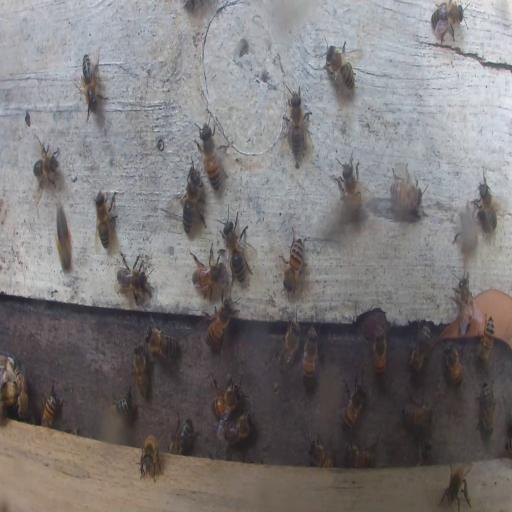bee: (220, 206, 254, 280), (115, 256, 155, 306), (284, 84, 309, 162), (180, 166, 207, 236), (323, 40, 357, 94), (52, 200, 76, 275), (440, 461, 474, 511), (92, 191, 120, 251), (389, 172, 425, 216), (197, 122, 220, 190), (79, 51, 103, 116), (281, 232, 306, 294), (337, 152, 361, 214), (32, 138, 60, 191), (192, 250, 222, 298), (340, 380, 368, 431), (454, 274, 477, 334), (430, 2, 466, 40), (209, 380, 240, 422), (476, 170, 497, 231), (408, 322, 432, 372), (138, 434, 164, 480), (144, 326, 178, 361), (205, 302, 232, 346), (456, 207, 480, 253), (278, 320, 300, 370), (401, 395, 433, 429), (301, 328, 318, 387), (168, 416, 194, 454), (41, 381, 61, 429), (223, 411, 252, 444), (478, 381, 495, 437), (476, 314, 495, 363), (133, 342, 149, 398), (444, 343, 464, 386), (110, 382, 134, 416), (372, 323, 386, 376), (344, 444, 374, 468), (1, 370, 16, 417), (14, 368, 28, 418), (308, 440, 333, 467), (418, 438, 432, 465)
